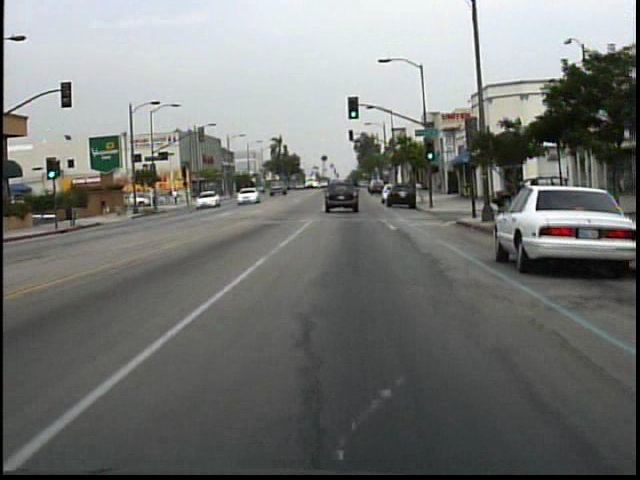person: (497, 172, 529, 228), (98, 192, 117, 220), (173, 187, 182, 208)
